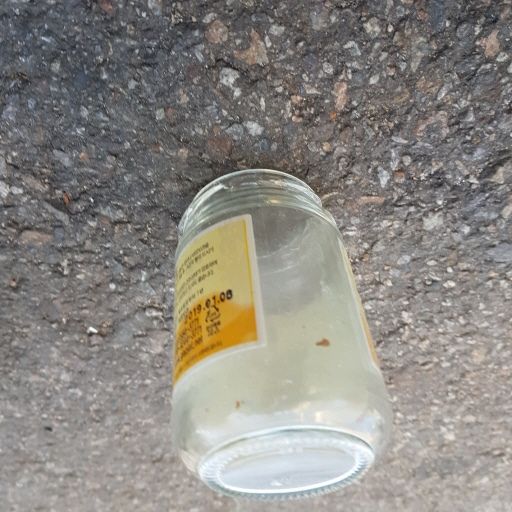Glass_5: (159, 169, 393, 498)
